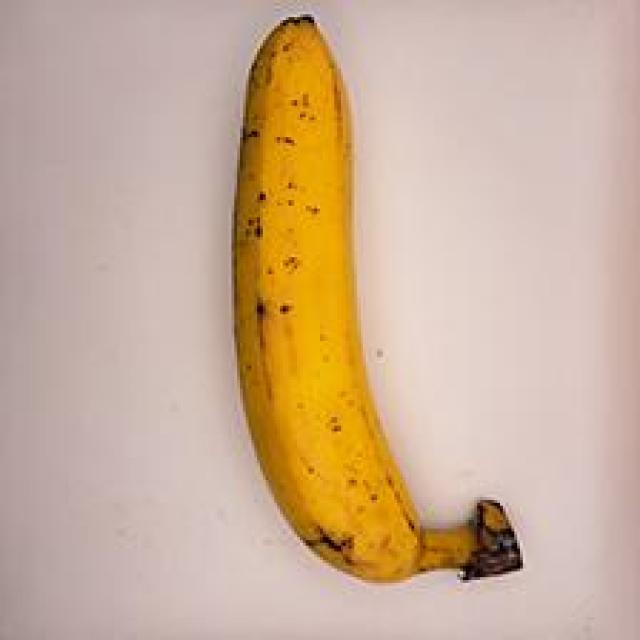Overripe: (182, 8, 553, 603)
